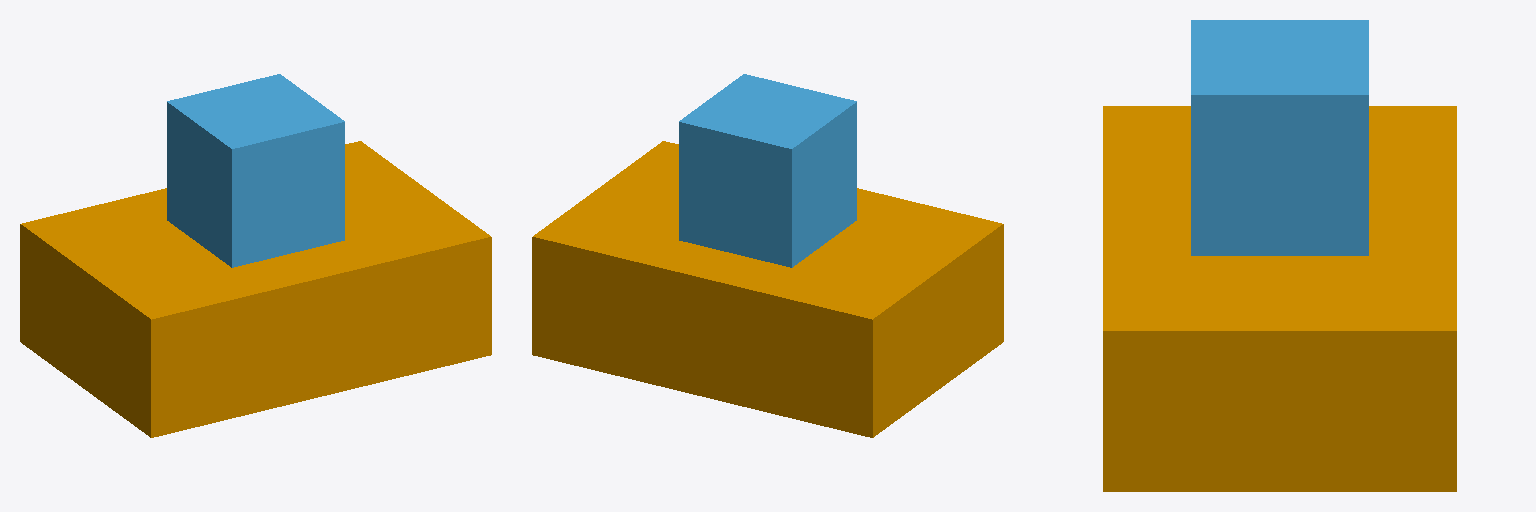
URDF robot description (empty):
<?xml version="1.0"?>
<robot name="empty">
  <link name="base_link" lagrange_density="1240">
    <visual>
      <geometry><box size="0.3 0.2 0.1"/></geometry>
    </visual>
    <collision>
      <geometry><box size="0.3 0.2 0.1"/></geometry>
    </collision>
    <inertial lagrange_overrides="">
      <origin xyz="0 0 0"/>
      <mass value="7.440000000000001"/>
      <inertia ixx="0.031000000000000014" ixy="0" ixz="0" iyy="0.06200000000000002" iyz="0" izz="0.08060000000000002"/>
    </inertial>
  </link>
  <link name="box_link" lagrange_density="1240">
    <inertial lagrange_overrides="">
      <origin xyz="0 0 0"/>
      <mass value="1.2400000000000002"/>
      <inertia ixx="0.0020666666666666676" ixy="0" ixz="0" iyy="0.0020666666666666676" iyz="0" izz="0.0020666666666666676"/>
    </inertial>
    <visual>
      <geometry><box size="0.1 0.1 0.1"/></geometry>
    </visual>
    <collision>
      <geometry><box size="0.1 0.1 0.1"/></geometry>
    </collision>
  </link>
  <joint name="box_link_joint" type="revolute">
    <parent link="base_link"/>
    <child link="box_link"/>
    <origin xyz="0 0 0.1" rpy="0 0 0"/>
    <axis xyz="0 0 1"/>
    <limit lower="-1.5707963267948966" upper="1.5707963267948966" effort="2" velocity="3"/>
  </joint>
  <gazebo reference="box_link">
    <sensor name="rangefinder" type="rangefinder">
      <pose>0 0 0 0 0 0</pose>
      <update_rate>10</update_rate>
      <rangefinder>
        <range>
          <max>20</max>
        </range>
      </rangefinder>
    </sensor>
  </gazebo>
</robot>

--- What the picture shows (computed from the rendered views, not written in the file) ---
The picture shows the robot from 3 angles, left to right: view 1: azimuth 30°, elevation 25°; view 2: azimuth 150°, elevation 25°; view 3: azimuth 270°, elevation 25°; orthographic projection.
Model empty with 2 links and 1 joints (1 revolute), rooted at base_link, posed every joint at zero.
Links seen in each view (by area): view 1: base_link, box_link; view 2: base_link, box_link; view 3: base_link, box_link.
Link boxes in pixels (x1,y1,x2,y2): base_link: [20, 141, 491, 437]; box_link: [167, 74, 344, 267]; base_link: [532, 141, 1003, 437]; box_link: [679, 74, 856, 267]; base_link: [1103, 106, 1456, 491]; box_link: [1191, 20, 1368, 255].
Bounding box of the posed robot: 0.3 × 0.2 × 0.2 m (x, y, z).
Geometry: primitives only (box / cylinder / sphere), no mesh files.
